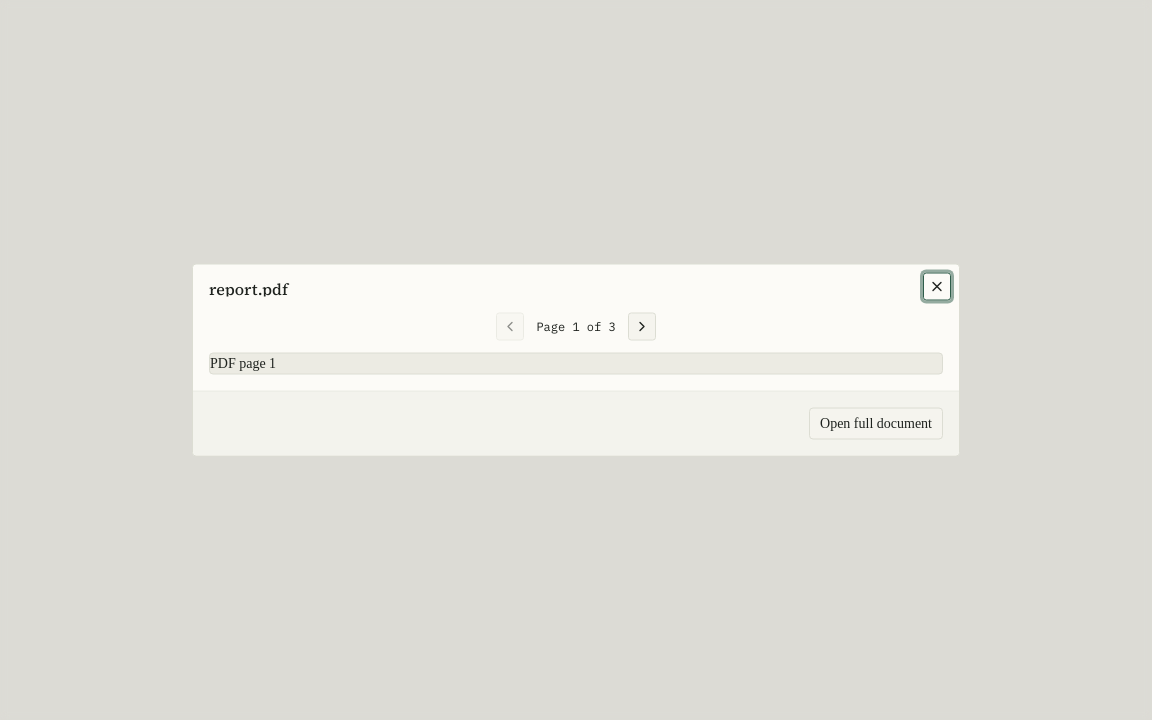
DocumentViewerDialog › steps one page at a time and stops at both ends
The width and height of the screenshot is (1152, 720).
expect the text "PDF page 1" is shown: met, box [210, 356, 276, 370]
expect the button named "Previous page" is disabled: met, box [496, 312, 524, 340]
Click the button named "Next page" at (642, 326), box [628, 312, 656, 340]
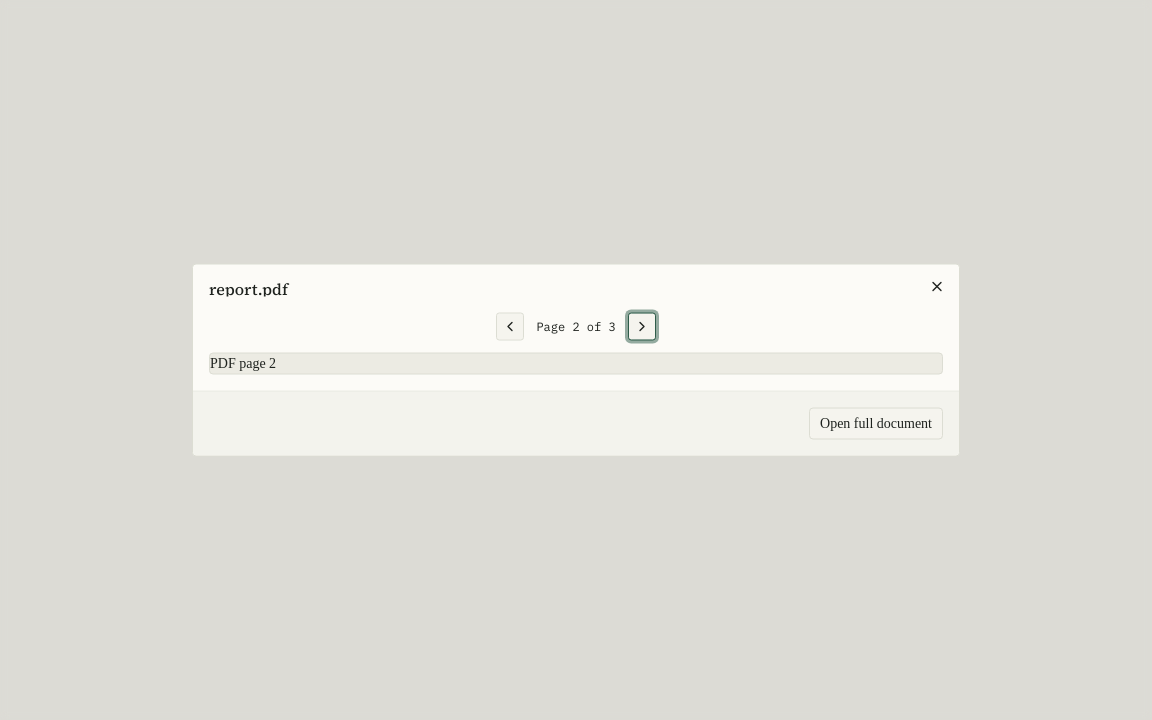
expect the button named "Previous page" is enabled: met, box [496, 312, 524, 340]
expect the text "PDF page 2" is shown: met, box [210, 356, 276, 370]
expect the text "Page 2 of 3" is shown: met, box [536, 318, 616, 334]
Click the button named "Next page" at (642, 326), box [628, 312, 656, 340]
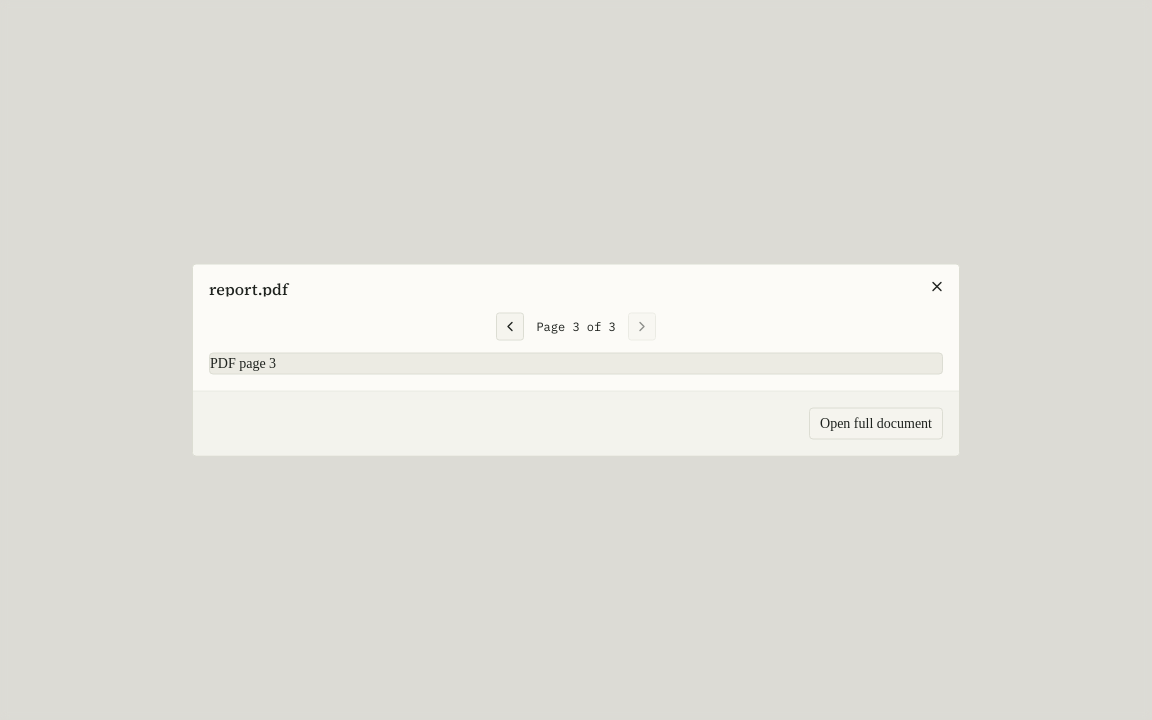
expect the text "Page 3 of 3" is shown: met, box [536, 318, 616, 334]
Click the button named "Previous page" at (510, 326), box [496, 312, 524, 340]
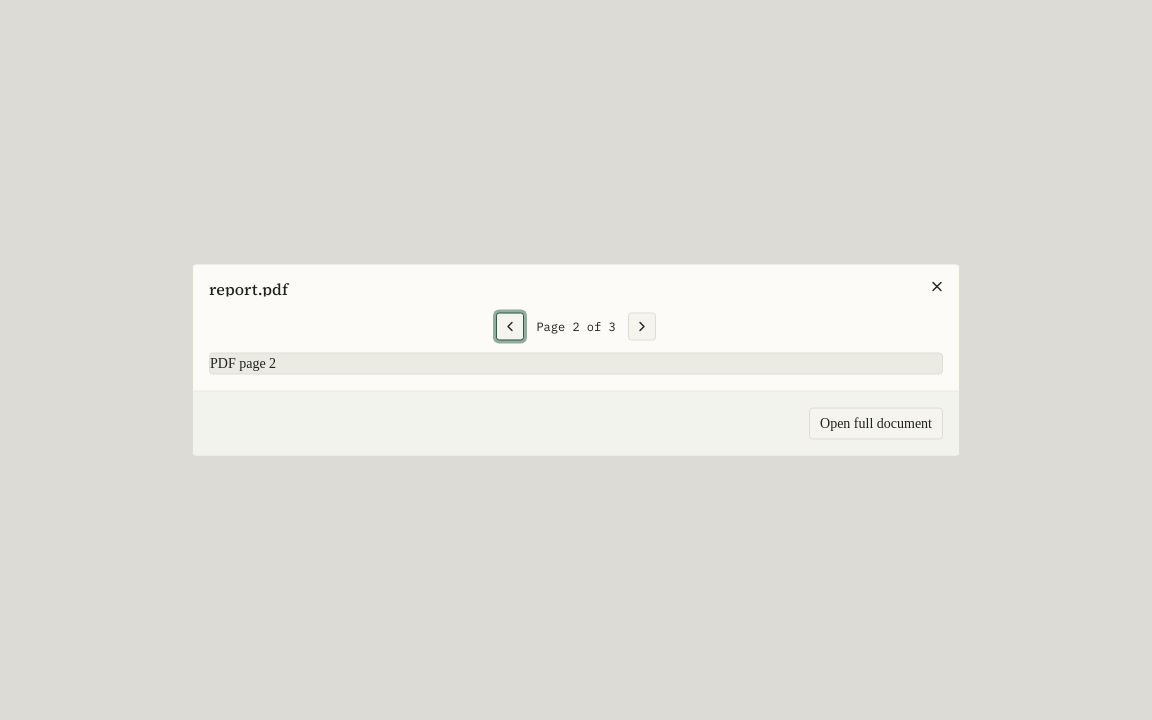
expect the text "Page 2 of 3" is shown: met, box [536, 318, 616, 334]
